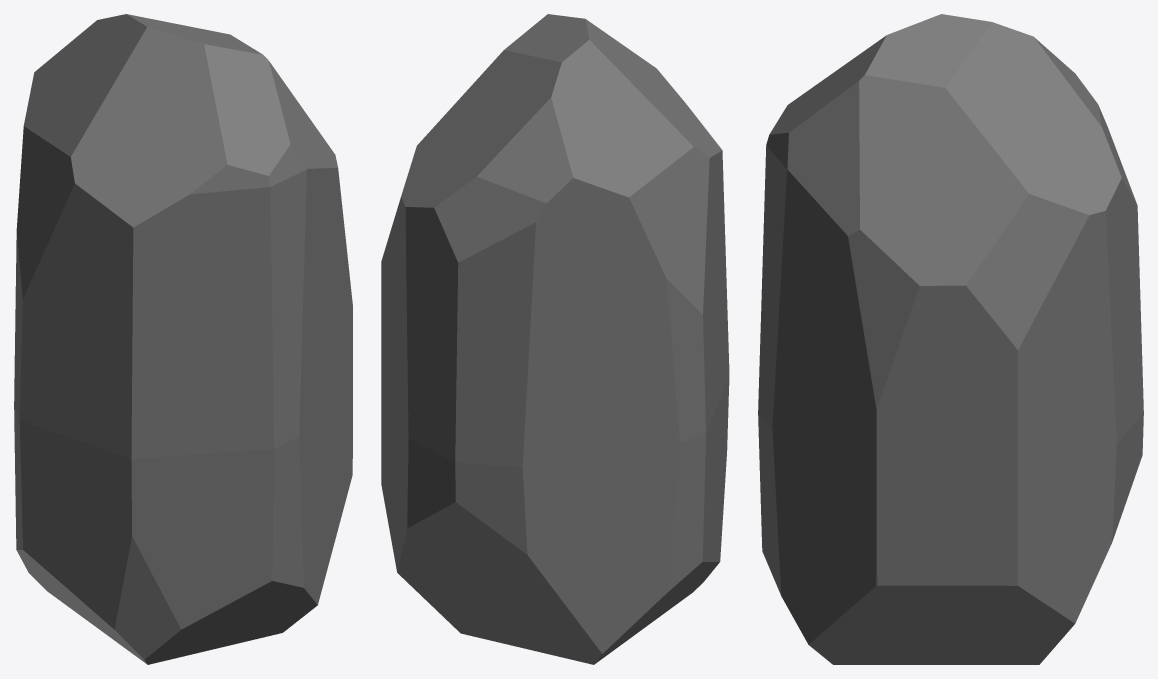
The model's file is Rock_04.fbx.
The picture shows the model from 3 angles, left to right: view 1: azimuth 30°, elevation 25°; view 2: azimuth 150°, elevation 25°; view 3: azimuth 270°, elevation 25°; orthographic projection. The views are drawn at different scales.
Visible parts, largest first — view 1: Rock_04_LOD0; view 2: Rock_04_LOD0; view 3: Rock_04_LOD0.
Boxes of the visible parts, left/top/right/bottom form: Rock_04_LOD0: left=14, top=14, right=352, bottom=664; Rock_04_LOD0: left=381, top=14, right=729, bottom=664; Rock_04_LOD0: left=758, top=14, right=1143, bottom=664.
Size of what is drawn, in the model's own units: 0.918 by 1.74 by 0.9968.
